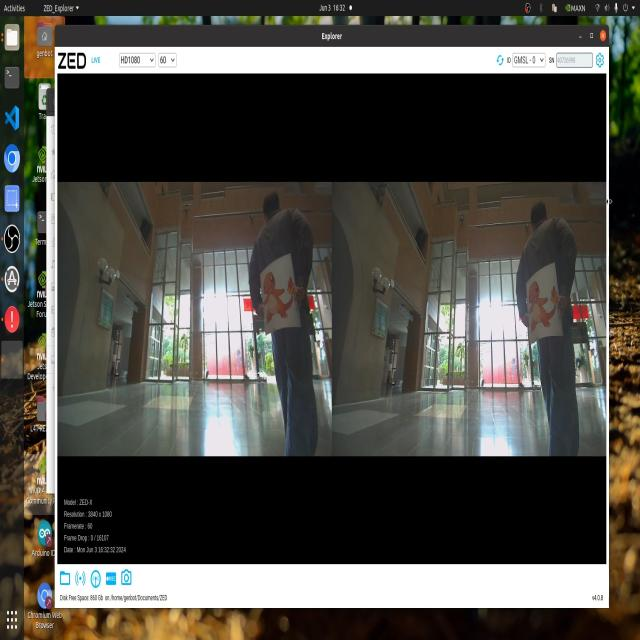red: (255, 266, 298, 318), (525, 272, 558, 330)
